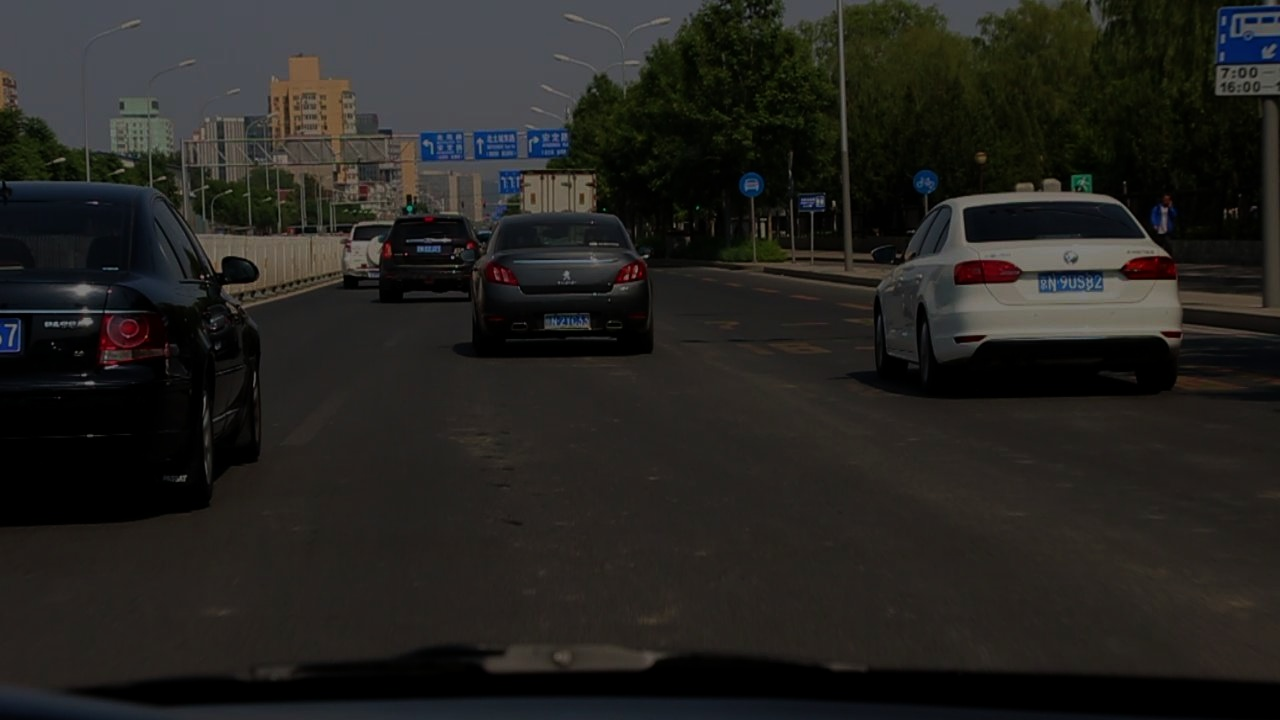Informative Signs: (912, 168, 940, 195), (738, 171, 765, 198)
